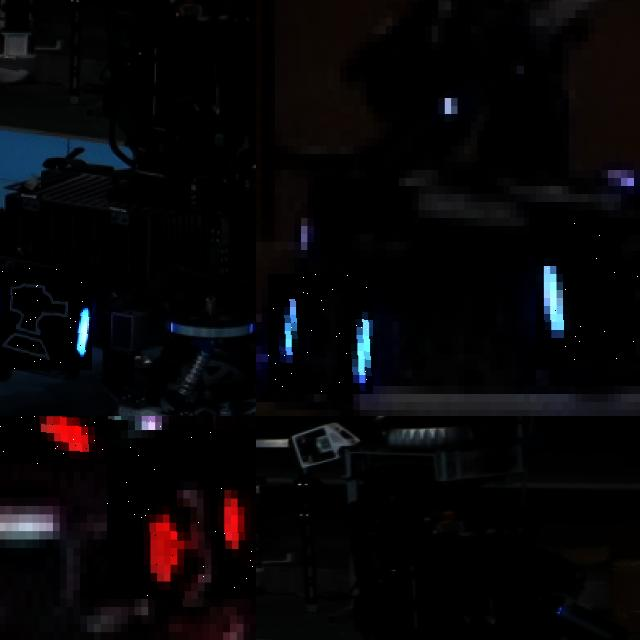B3: (536, 218, 640, 362)
B4: (268, 274, 373, 394)
Bs: (0, 268, 92, 369)
R3: (107, 430, 256, 598), (0, 416, 213, 463)
